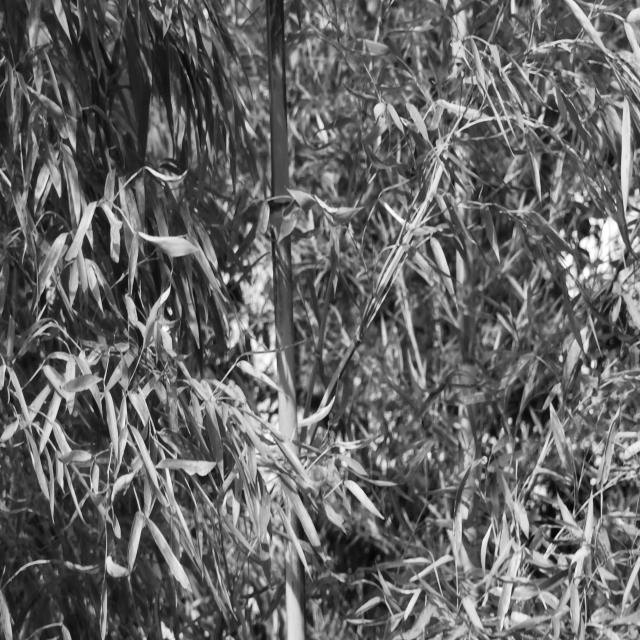Bamboo-shoots: (266, 0, 306, 640)
